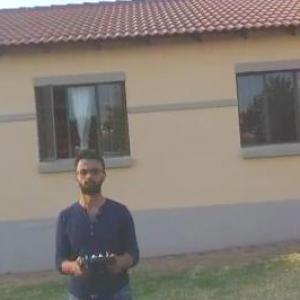follow: (49, 143, 148, 299)
